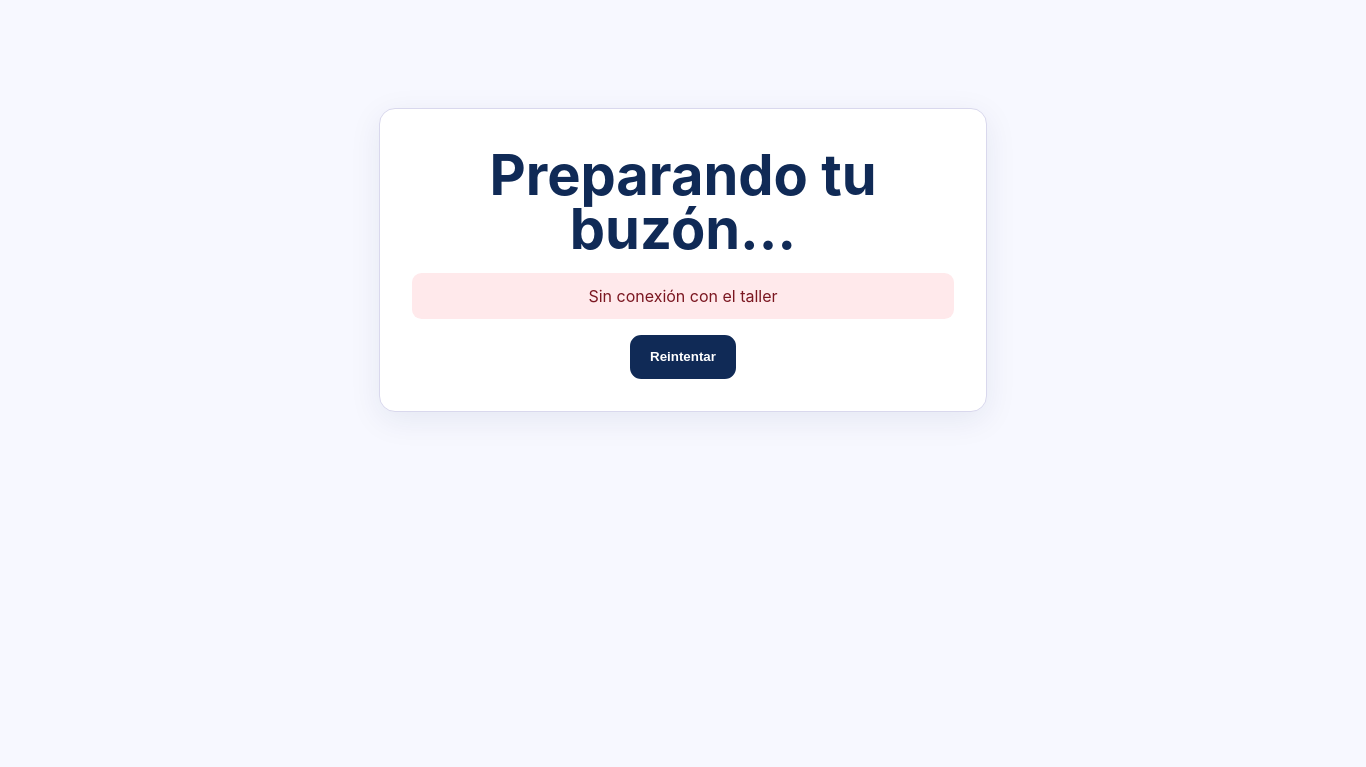
participant flow › offers a clear retry after automatic enrollment fails
Expected: the message reads "Sin conexión con el taller", 588,286 -> 778,306
Click the button "Reintentar". click: coordinates (683, 357)
box: 630,335 -> 736,379
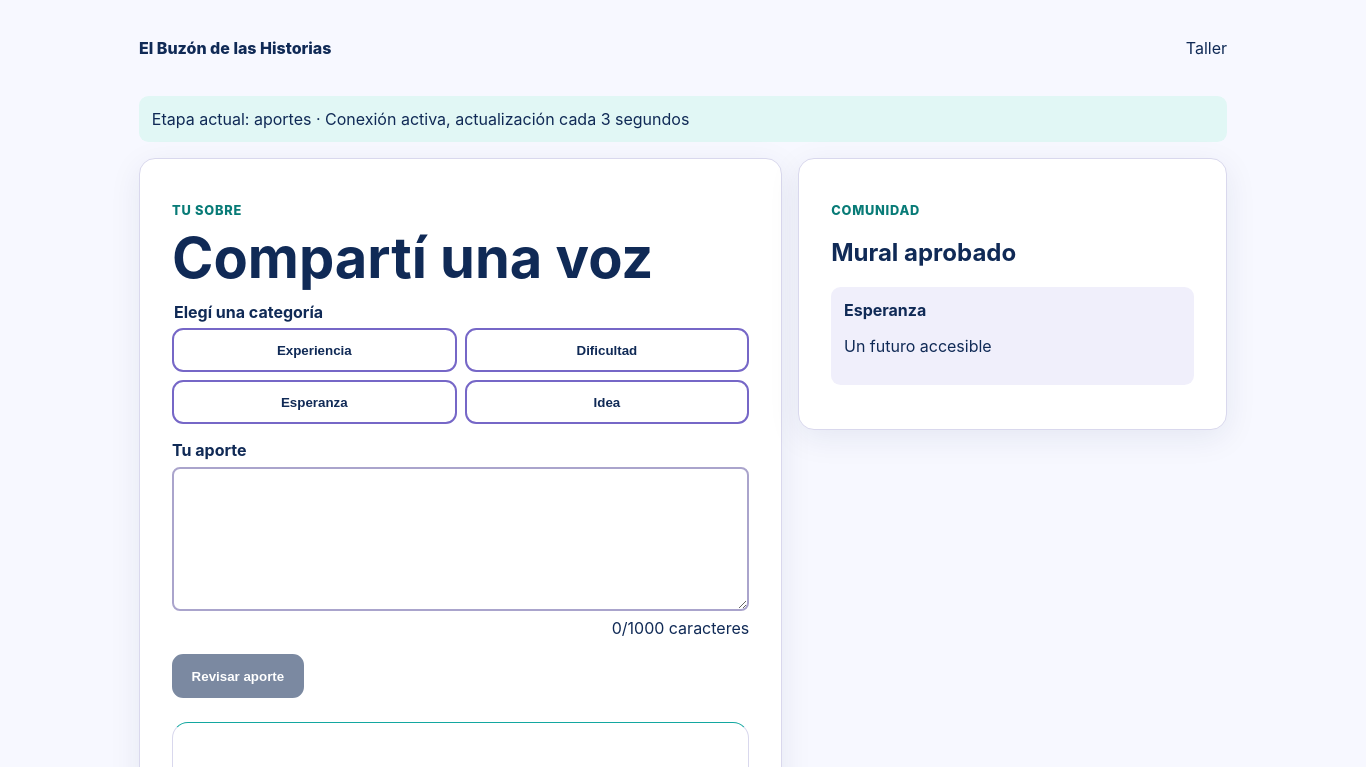
Expected: the heading "Compartí una voz" is shown, 172,231 -> 701,286
